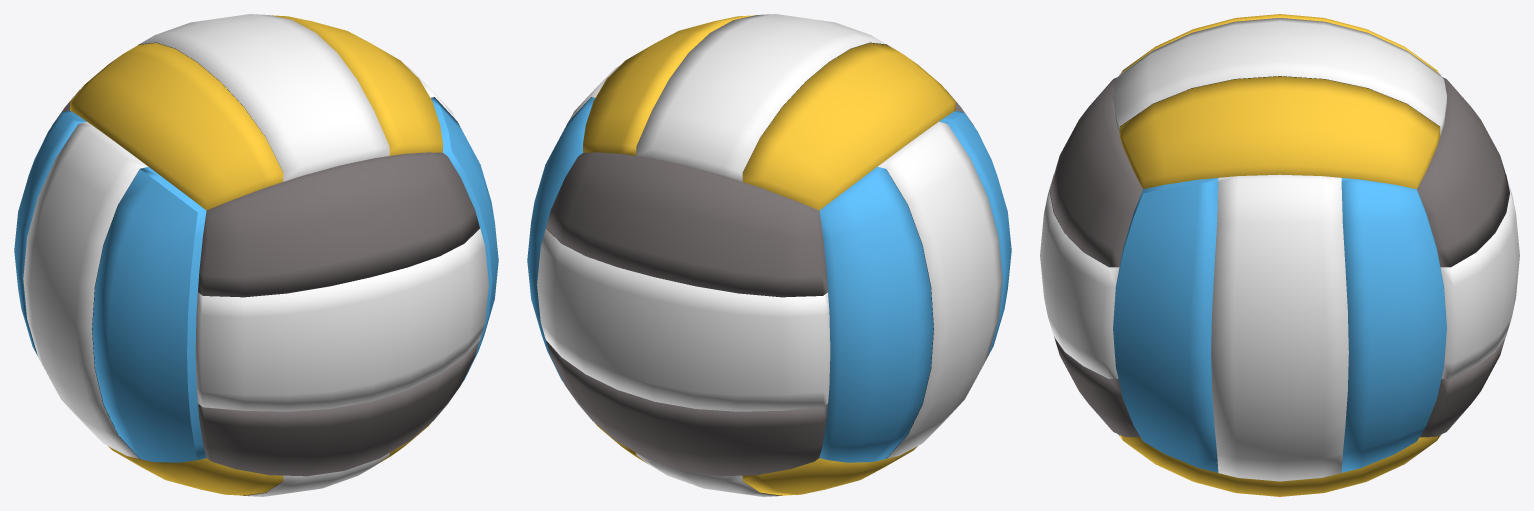
Rendered from ValleyBall.fbx.
The picture shows the model from 3 angles, left to right: view 1: azimuth 30°, elevation 25°; view 2: azimuth 150°, elevation 25°; view 3: azimuth 270°, elevation 25°; orthographic projection.
Parts seen in each view (by area): view 1: Valleyball; view 2: Valleyball; view 3: Valleyball.
Boxes of the visible parts, x1,y1,x2,y2 form: Valleyball: [14, 14, 498, 496]; Valleyball: [527, 14, 1011, 496]; Valleyball: [1040, 14, 1519, 496].
Bounding box in the file's own units: 199 × 199 × 199.
